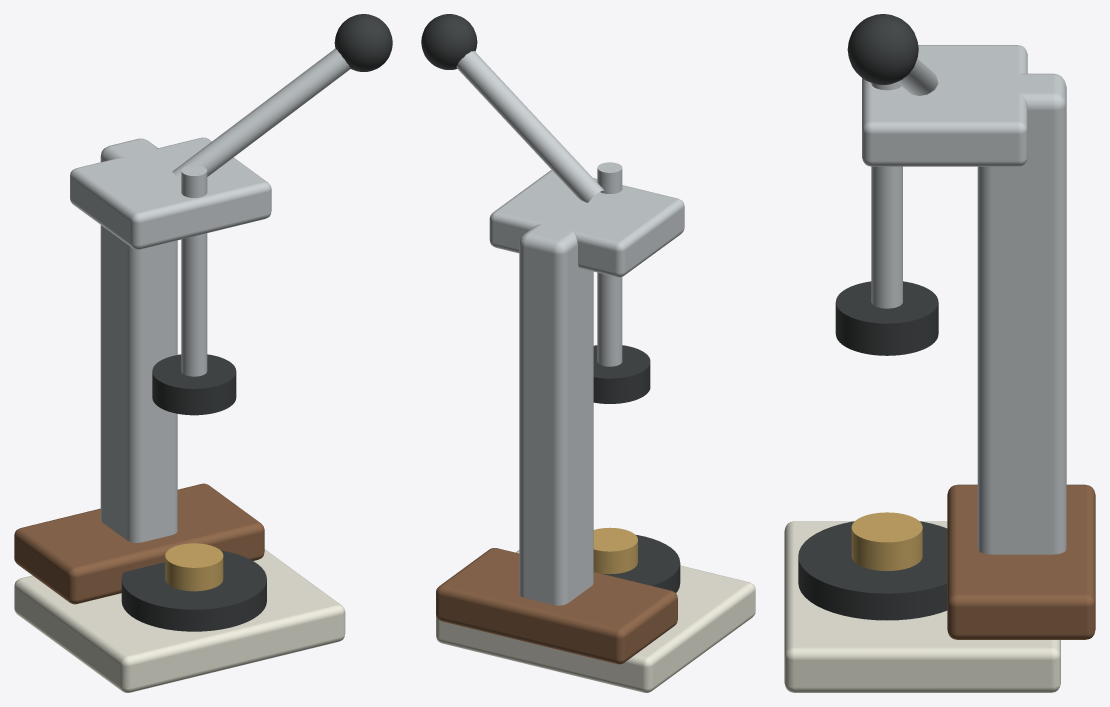
The model's file is clockmaker-and-watch-repair-staking-tool-b572b96a__30621.glb.
3 views of the same model, side by side, from view 1: azimuth 30°, elevation 25°; view 2: azimuth 150°, elevation 25°; view 3: azimuth 270°, elevation 25° (orthographic). The views are drawn at different scales.
Visible parts, largest first — view 1: staking-tool; view 2: staking-tool; view 3: staking-tool.
Part boxes in pixels (<box>): staking-tool: <box>14,14,392,692</box>; staking-tool: <box>421,14,755,692</box>; staking-tool: <box>784,14,1095,692</box>.
Bounding box in the file's own units: 0.218 × 0.398 × 0.1575.
